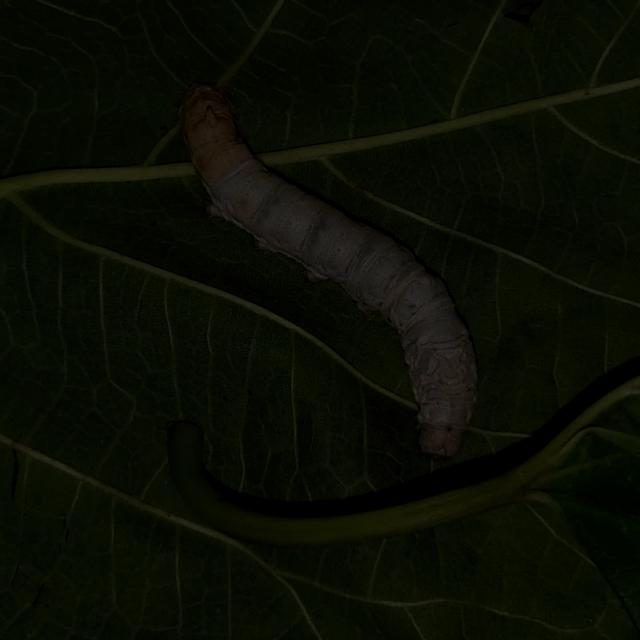Grasserie: (166, 82, 490, 460)
